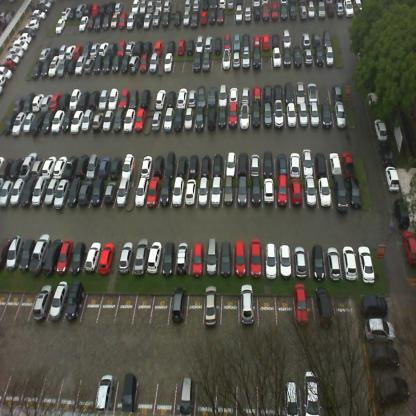car: (376, 376, 411, 410), (29, 231, 52, 275), (301, 370, 322, 416), (61, 289, 86, 326), (368, 344, 400, 372), (363, 318, 396, 344), (28, 288, 51, 324), (46, 290, 69, 326), (358, 293, 388, 318), (354, 240, 374, 277), (314, 285, 332, 326), (293, 282, 309, 327), (121, 370, 137, 415), (168, 291, 189, 325), (95, 373, 112, 415), (145, 240, 165, 275), (324, 242, 342, 280), (202, 293, 221, 329), (239, 282, 254, 326), (41, 239, 60, 273), (68, 240, 87, 274), (6, 232, 23, 270), (178, 373, 193, 415), (76, 176, 94, 210), (144, 177, 162, 211), (293, 243, 311, 277), (53, 241, 72, 273), (82, 240, 100, 273), (392, 196, 410, 229), (340, 241, 356, 278), (88, 174, 105, 208), (278, 244, 295, 278), (21, 174, 38, 208), (310, 242, 326, 278), (283, 380, 299, 416), (160, 241, 177, 274), (174, 243, 191, 276), (203, 241, 218, 278), (401, 229, 415, 268), (170, 176, 186, 210), (188, 242, 204, 276), (263, 243, 279, 277), (344, 176, 362, 206), (234, 241, 249, 277), (65, 176, 81, 209), (113, 177, 129, 210), (156, 178, 172, 211), (132, 240, 148, 273), (217, 242, 233, 275), (18, 239, 34, 272), (100, 178, 116, 210), (54, 178, 70, 210), (32, 175, 48, 207), (96, 244, 113, 274), (248, 240, 263, 274), (316, 177, 332, 208), (44, 175, 60, 206), (19, 150, 38, 176), (314, 148, 330, 178), (118, 242, 134, 272), (384, 163, 400, 193), (10, 177, 26, 207), (378, 139, 395, 167), (62, 153, 79, 180), (30, 109, 47, 136), (133, 177, 146, 212), (73, 154, 91, 179), (341, 149, 357, 177), (84, 153, 101, 179), (330, 179, 345, 208), (197, 179, 211, 210), (288, 180, 304, 207), (122, 106, 137, 134), (288, 147, 302, 177), (301, 148, 315, 178), (235, 179, 249, 209), (262, 178, 276, 208), (276, 179, 290, 209), (90, 106, 106, 132), (96, 154, 112, 180), (328, 148, 342, 177), (209, 180, 223, 209), (70, 107, 84, 136), (276, 148, 289, 179), (304, 178, 317, 209), (122, 155, 138, 180), (372, 116, 388, 141), (101, 107, 115, 135), (112, 107, 126, 135), (0, 179, 14, 207), (332, 101, 347, 127), (186, 152, 201, 178), (42, 152, 57, 178), (9, 154, 24, 180), (0, 235, 11, 270), (109, 155, 125, 179), (52, 155, 68, 179), (248, 150, 262, 177), (12, 109, 26, 136), (3, 110, 18, 135), (184, 179, 196, 210), (133, 108, 147, 134), (149, 154, 163, 180), (0, 155, 14, 181), (41, 109, 55, 135), (138, 155, 153, 179), (263, 147, 275, 177), (249, 179, 261, 209), (150, 106, 163, 133), (164, 152, 178, 177), (199, 152, 213, 177), (210, 152, 224, 177), (366, 89, 380, 114), (224, 179, 236, 208), (51, 108, 64, 134), (174, 153, 188, 177), (224, 150, 236, 178), (31, 154, 46, 176), (194, 107, 206, 133), (162, 107, 174, 132), (238, 105, 250, 130), (237, 152, 249, 177), (82, 109, 94, 133), (62, 109, 74, 133), (311, 102, 322, 128), (321, 104, 334, 126), (22, 110, 35, 132), (108, 85, 119, 111), (87, 88, 100, 110), (31, 90, 44, 112), (128, 52, 141, 74), (74, 54, 87, 76), (57, 56, 70, 78), (48, 54, 61, 76), (76, 90, 90, 110), (262, 105, 274, 128), (274, 105, 286, 128), (298, 105, 310, 128), (154, 86, 166, 109), (139, 87, 152, 108), (184, 106, 194, 133), (216, 107, 227, 131), (306, 81, 318, 103), (174, 108, 184, 134), (283, 81, 294, 104), (128, 86, 139, 109), (292, 46, 303, 69), (40, 57, 52, 78), (0, 65, 14, 83), (252, 105, 262, 130), (205, 108, 216, 130), (228, 106, 239, 128), (252, 84, 263, 106), (207, 85, 218, 107), (176, 86, 187, 108), (70, 86, 81, 108), (282, 28, 293, 50), (89, 40, 101, 60), (286, 105, 297, 126), (119, 87, 130, 108), (124, 37, 135, 58), (67, 55, 78, 76), (262, 81, 272, 104), (163, 49, 173, 72), (13, 94, 25, 113), (132, 38, 144, 57), (101, 53, 113, 72), (31, 60, 43, 79), (252, 46, 261, 71), (58, 90, 71, 107), (40, 91, 53, 108), (228, 83, 238, 105), (165, 89, 176, 109), (23, 90, 34, 110), (314, 46, 324, 68), (272, 47, 282, 69), (138, 50, 148, 72), (84, 54, 95, 74), (330, 84, 342, 102), (310, 30, 322, 48), (242, 45, 250, 72), (202, 51, 211, 75), (324, 45, 334, 66), (176, 38, 187, 57), (153, 38, 164, 57), (57, 41, 68, 60), (92, 54, 103, 73), (101, 10, 112, 29), (127, 10, 138, 29), (297, 79, 305, 105), (48, 92, 61, 108), (8, 45, 24, 58), (98, 89, 107, 112), (222, 48, 231, 71), (39, 45, 51, 62), (219, 82, 227, 107), (222, 33, 232, 53), (192, 52, 202, 72), (120, 54, 130, 74), (232, 49, 241, 71), (20, 26, 36, 38), (54, 18, 66, 34), (322, 28, 332, 47), (271, 31, 281, 50), (326, 1, 336, 20), (12, 39, 29, 50), (273, 83, 283, 101), (188, 88, 198, 106), (302, 31, 312, 49), (303, 49, 313, 67), (261, 32, 270, 52), (241, 33, 250, 53), (232, 33, 241, 53), (214, 37, 223, 57), (116, 38, 126, 56), (81, 40, 91, 58), (65, 42, 75, 60), (47, 45, 59, 60), (94, 12, 104, 30), (182, 8, 192, 26), (345, 0, 355, 18), (197, 85, 205, 107), (150, 50, 158, 72), (152, 7, 160, 29), (240, 87, 249, 106), (79, 13, 89, 30), (204, 34, 212, 55), (75, 2, 87, 16), (162, 8, 170, 29), (235, 1, 243, 22), (166, 38, 175, 56), (111, 10, 120, 28), (119, 9, 128, 27), (195, 33, 202, 56), (283, 48, 291, 68), (142, 40, 152, 56), (98, 41, 108, 57), (111, 54, 119, 74), (83, 2, 93, 18), (25, 19, 39, 30), (136, 11, 145, 28), (190, 9, 198, 28), (5, 54, 20, 64), (18, 32, 33, 42), (208, 5, 215, 26), (253, 34, 261, 52), (186, 38, 194, 56), (33, 8, 45, 20), (173, 8, 181, 26), (201, 7, 209, 25), (298, 3, 306, 21), (317, 0, 325, 18), (105, 42, 115, 56), (353, 0, 363, 14), (144, 11, 152, 28), (91, 1, 100, 16), (217, 5, 224, 24), (272, 1, 279, 20), (289, 1, 296, 20), (308, 1, 315, 20), (3, 59, 15, 70), (36, 1, 48, 12), (61, 6, 72, 18), (73, 45, 82, 59), (68, 7, 77, 21), (107, 0, 116, 14), (281, 2, 288, 20), (337, 0, 344, 18), (114, 1, 125, 12), (88, 14, 96, 29), (253, 5, 260, 22), (245, 4, 251, 23), (263, 2, 269, 21), (162, 0, 171, 12), (100, 0, 107, 14), (138, 0, 146, 11), (132, 0, 140, 11), (184, 0, 192, 11), (201, 0, 209, 11), (192, 0, 199, 12), (0, 73, 7, 85), (31, 13, 40, 22), (145, 0, 153, 10), (210, 0, 218, 9), (218, 0, 226, 8), (154, 0, 160, 10), (227, 0, 234, 8)
